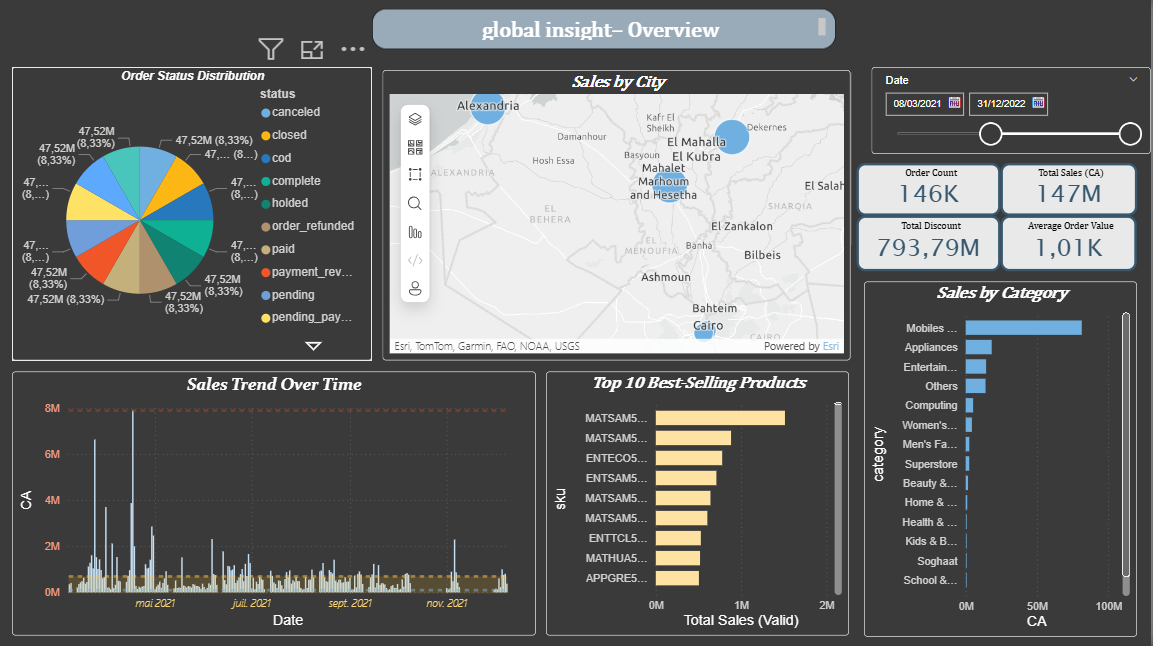

This screenshot's page, from the dashboard's own definition file:
{"tool":"powerbi","page":{"name":"global insight","canvas":[1280,720],"ordinal":0},"visuals":[{"type":"textbox","box":[413.3,11.7,515,45],"z":0},{"type":"slicer","fields":{"Values":["Dim_Date.Date"]},"box":[956.7,78.9,311.1,95.6],"z":1000},{"type":"card","title":"Total Sales (CA)","fields":{"Values":["mesures.CA"]},"box":[1111.7,183.3,151.7,58.3],"z":2000},{"type":"card","title":"Average Order Value","fields":{"Values":["mesures.Panier_Moyen"]},"box":[1112.2,242.2,151.1,62.2],"z":3000},{"type":"card","title":"Total Discount","fields":{"Values":["mesures.Total_Discount"]},"box":[952.2,242.2,160,62.2],"z":4000},{"type":"card","title":"Order Count","fields":{"Values":["mesures.Nb_Commandes"]},"box":[952.2,183.3,160,58.9],"z":5000},{"type":"clusteredColumnChart","title":"Sales Trend Over Time","fields":{"Category":["Dim_Date.Date"],"Y":["mesures.CA"]},"box":[13.3,415,581.7,293.3],"z":6000},{"type":"barChart","title":"Sales by Category","fields":{"Category":["Dim_Produit.category"],"Y":["mesures.CA"]},"box":[960,314.4,303.3,394.4],"z":7000},{"type":"pieChart","title":"Order Status Distribution","fields":{"Category":["Dim_status.status"],"Y":["mesures.Total Sales (Valid)"]},"box":[12.9,77.1,400,325.7],"z":8000},{"type":"esriVisual","title":"Sales by City","fields":{"Size":["mesures.CA"],"Location":["Dim_Geography.City"]},"box":[424.3,80,520,322.9],"z":9000},{"type":"barChart","title":"Top 10 Best-Selling Products","fields":{"Category":["Dim_Produit.sku"],"Y":["mesures.Total Sales (Valid)"]},"box":[606.7,415,336.7,293.3],"z":10000}]}

Visuals, with their boxes in screenshot pixels (x1, y1, x2, y2), scaled from the page's 1280x720 canvas onto the 1153x646 screenshot:
textbox: (372,10,836,51)
slicer - Dim_Date.Date: (862,71,1142,157)
"Total Sales (CA)" card: (1001,164,1138,217)
"Average Order Value" card: (1002,217,1138,273)
"Total Discount" card: (858,217,1002,273)
"Order Count" card: (858,164,1002,217)
"Sales Trend Over Time" clusteredColumnChart: (12,372,536,636)
"Sales by Category" barChart: (865,282,1138,636)
"Order Status Distribution" pieChart: (12,69,372,361)
"Sales by City" esriVisual: (382,72,851,361)
"Top 10 Best-Selling Products" barChart: (547,372,850,636)
